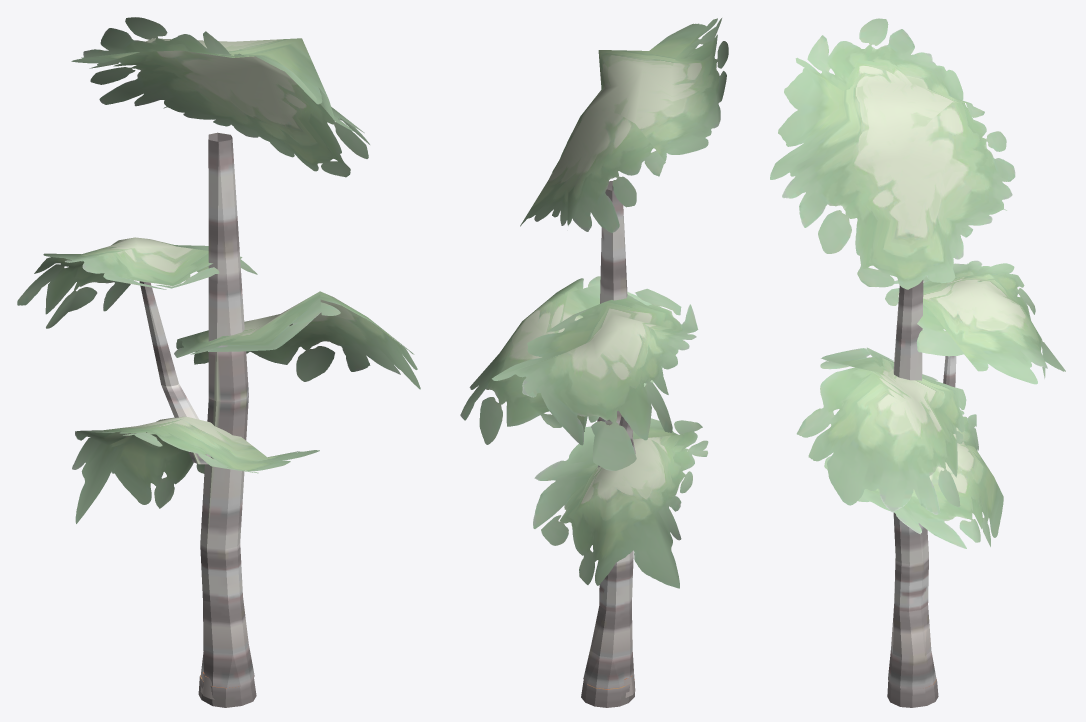
File: TreeBirchSmallMarshy_a.fbx
The picture shows the model from 3 angles, left to right: view 1: azimuth 30°, elevation 25°; view 2: azimuth 150°, elevation 25°; view 3: azimuth 270°, elevation 25°; orthographic projection. The views are drawn at different scales.
Visible parts, largest first — view 1: TreeBirchTrunkSmall, TreeBirchStumpSmall; view 2: TreeBirchTrunkSmall, TreeBirchStumpSmall; view 3: TreeBirchTrunkSmall, TreeBirchStumpSmall.
Part boxes in pixels (bbox=[...]): TreeBirchTrunkSmall: bbox=[17, 17, 420, 687]; TreeBirchStumpSmall: bbox=[198, 675, 256, 707]; TreeBirchTrunkSmall: bbox=[460, 18, 728, 688]; TreeBirchStumpSmall: bbox=[581, 679, 634, 707]; TreeBirchTrunkSmall: bbox=[770, 18, 1065, 689]; TreeBirchStumpSmall: bbox=[887, 679, 938, 707].
Size of what is drawn, in the model's own units: 1.98 by 4.45 by 1.97.
Materials: 1 (1 with a texture image).
